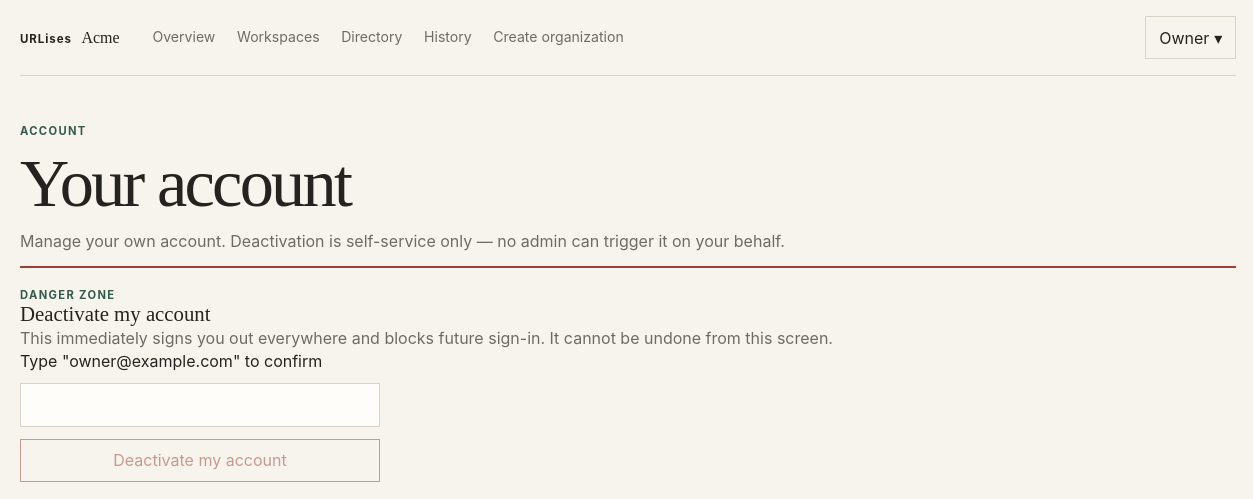
Test: account page deactivation › keeps the deactivate action disabled until the account email is typed exactly, and confirm-dismissal sends no request
Expected: the button "Deactivate my account" is disabled, left=20, top=439, right=380, bottom=482
Type "not-the-right-email" into the field at (200, 405), box left=20, top=382, right=380, bottom=427
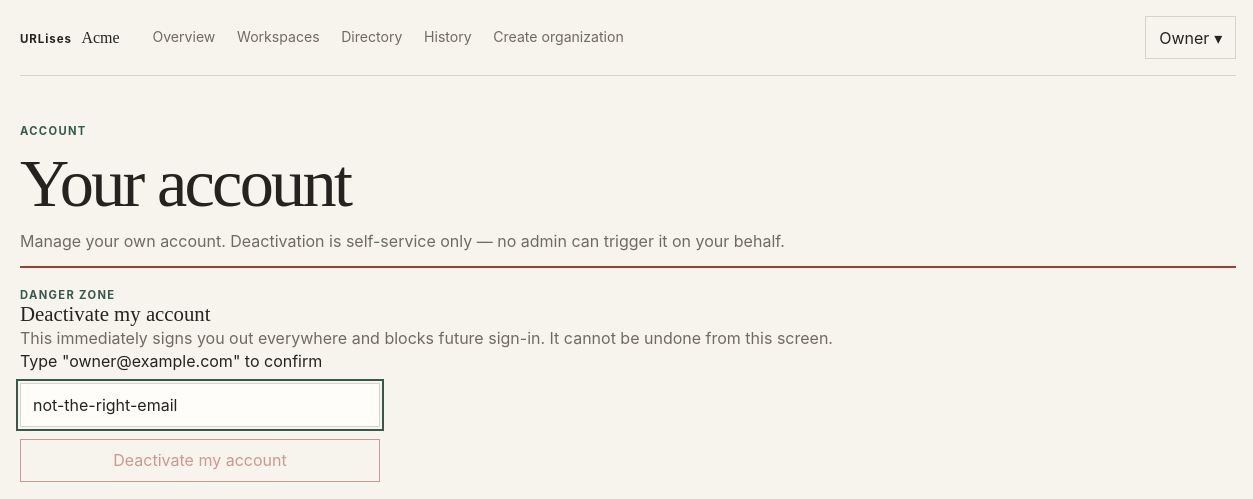
Expected: the button "Deactivate my account" is disabled, left=20, top=439, right=380, bottom=482
Replace the text in the field with "owner@example.com" at (200, 405), box left=20, top=382, right=380, bottom=427
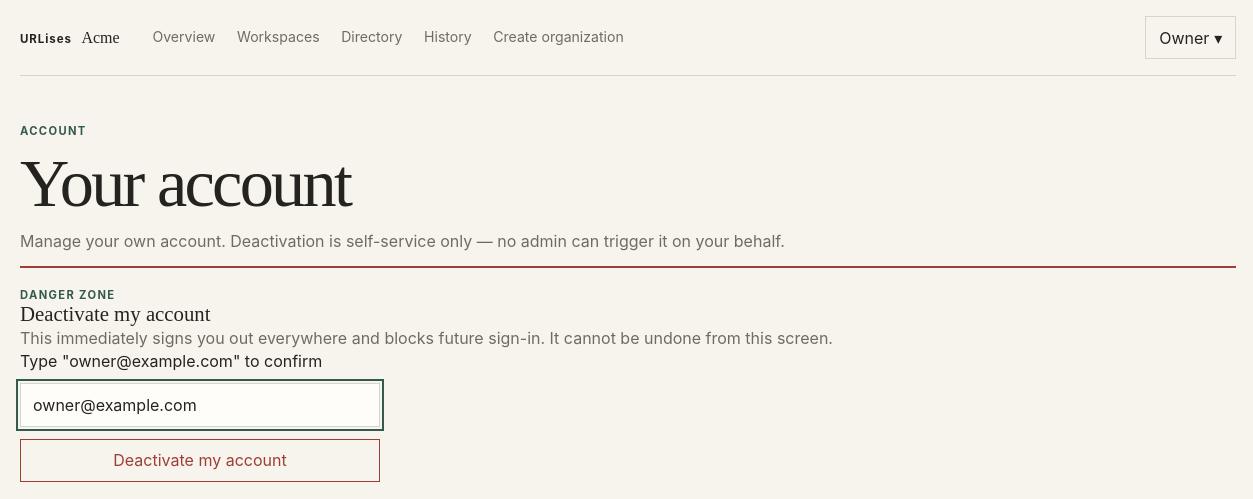
Result: the button "Deactivate my account" is enabled at left=20, top=439, right=380, bottom=482
